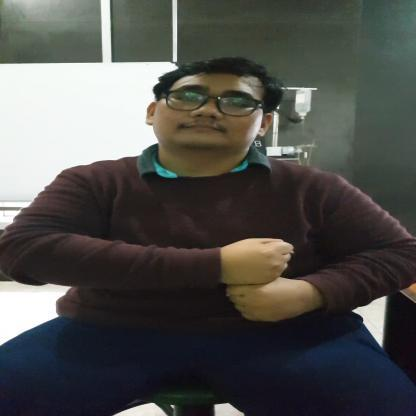G: (216, 234, 324, 326)
